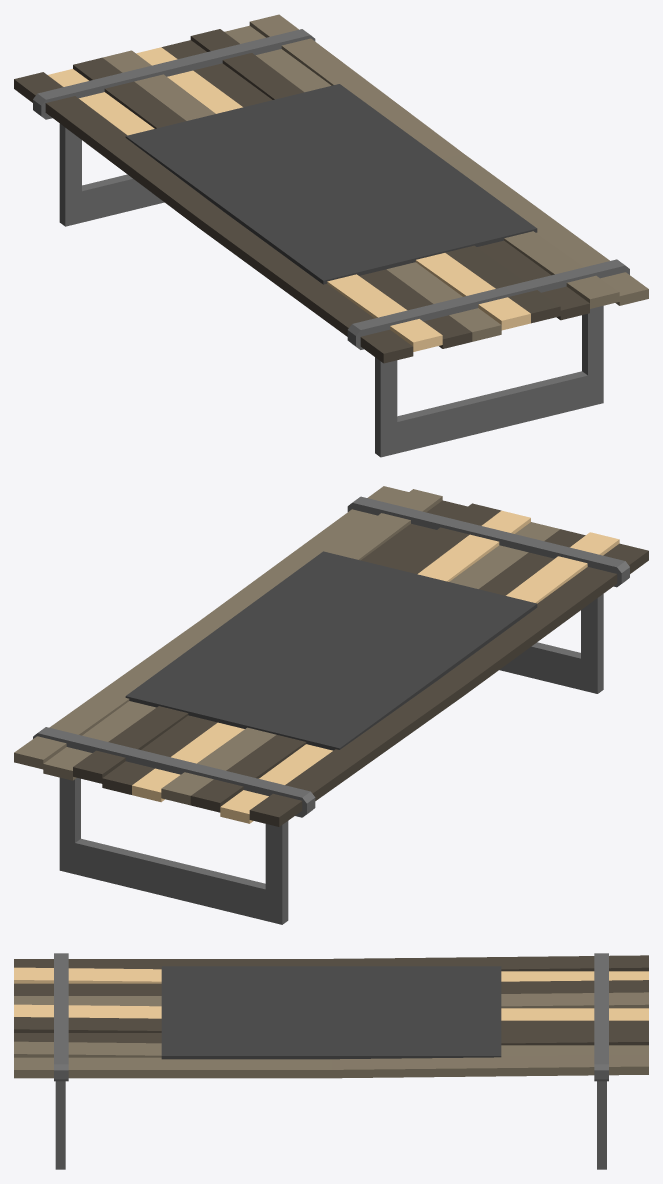
Rendered from MapTable.fbx.
The picture shows the model from 3 angles, top to bottom: view 1: azimuth 30°, elevation 25°; view 2: azimuth 150°, elevation 25°; view 3: azimuth 270°, elevation 25°; orthographic projection. The views are drawn at different scales.
Parts seen in each view (by area): view 1: Cube; view 2: Cube; view 3: Cube.
Boxes of the visible parts, x1,y1,x2,y2 form: Cube: (14,14,648,457); Cube: (14,486,648,924); Cube: (14,953,648,1169).
Bounding box in the file's own units: 1860 × 864 × 4347.
